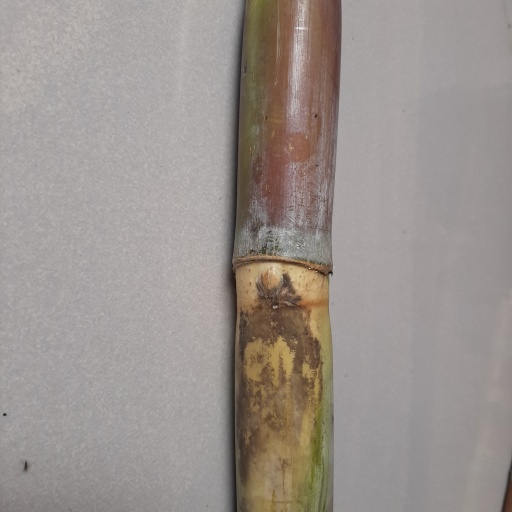Bud: (256, 266, 283, 296)
